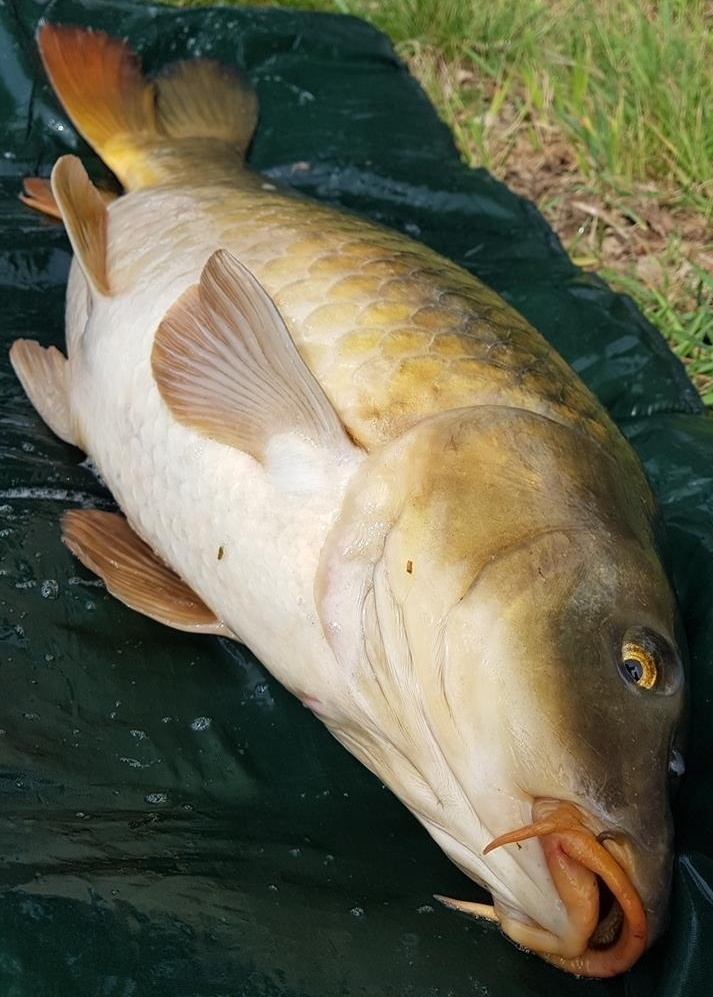Cyprinus carpio: (10, 20, 693, 977)
